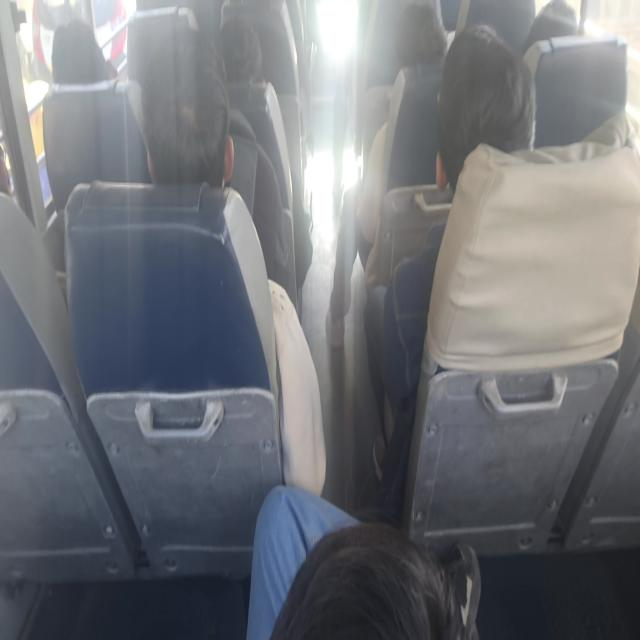person: (263, 528, 490, 640), (432, 29, 538, 208), (152, 54, 243, 200), (203, 3, 276, 94), (44, 15, 115, 89), (398, 0, 450, 89), (527, 0, 593, 47), (0, 134, 28, 202)
